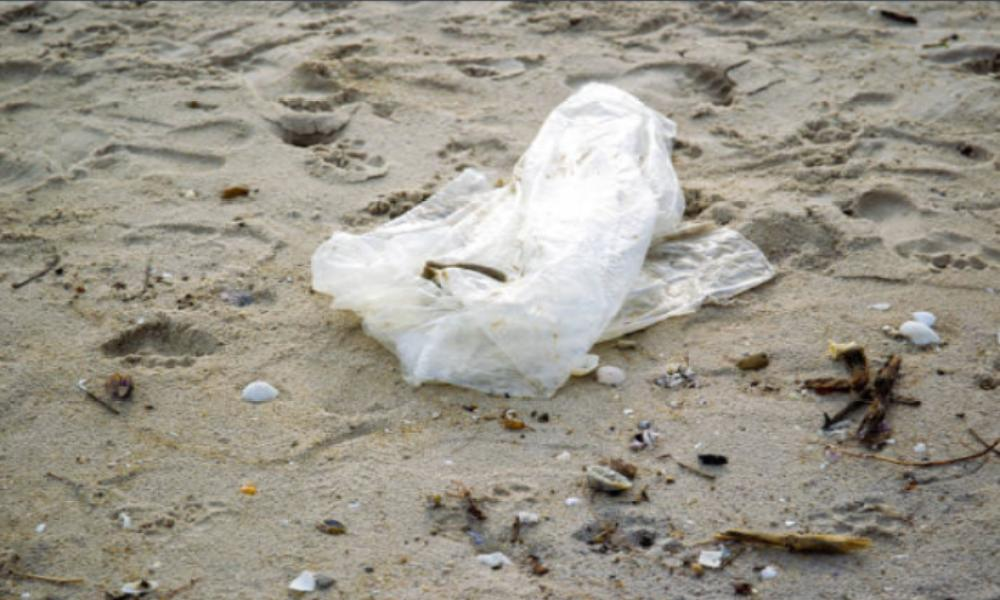plastic bag: (285, 86, 778, 407)
